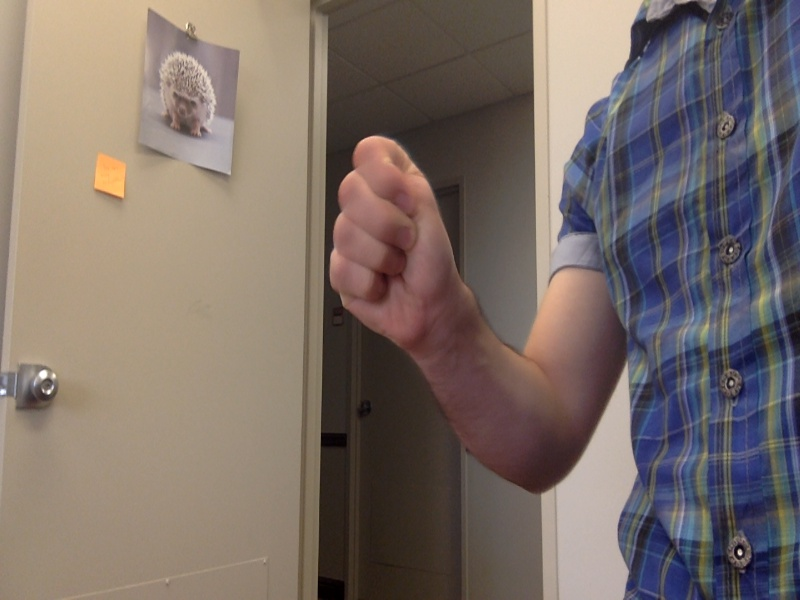0-hand: (329, 130, 461, 358)
